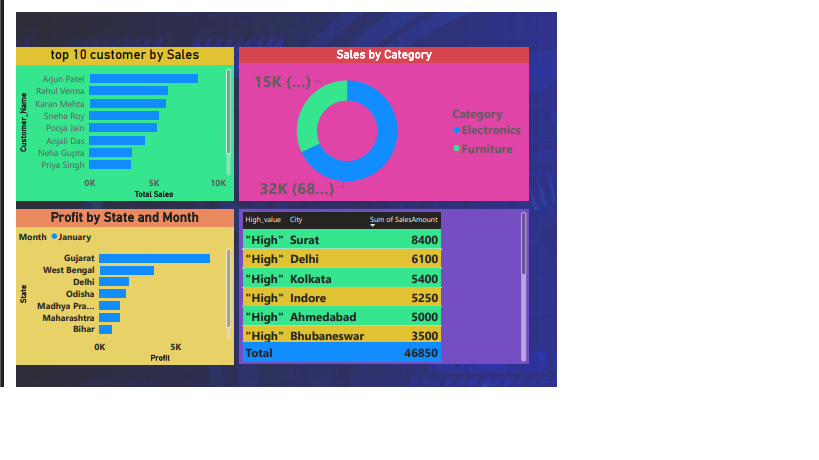

The page's visual inventory and layout, read from the dashboard file:
{"tool":"powerbi","page":{"name":"Page 1","canvas":[1280,720],"ordinal":0},"visuals":[{"type":"clusteredBarChart","title":"top 10 customer by Sales ","fields":{"Category":["Customer_Table.Customer_Name"],"Y":["Order_table.Total Sales"]},"box":[0,63.8,396.4,280.5],"z":0},{"type":"barChart","fields":{"Y":["Order_table.Profit"],"Category":["Customer_Table.State"],"Series":["DateTable_Table.Month"]},"box":[0,359.5,396.4,282.2],"z":1},{"type":"donutChart","title":"Sales by Category","fields":{"Y":["Order_table.Sales by Category"],"Category":["Product_Table.Category"]},"box":[406.5,63.8,527.5,280.5],"z":2},{"type":"tableEx","fields":{"Values":["Order_table.High_value","Customer_Table.City","Sum(Order_table.SalesAmount)"]},"box":[407,359,527,282],"z":3}]}

Visuals, with their boxes in screenshot pixels (x1, y1, x2, y2), scaled from the page's 1280x720 canvas onto the 819x460 screenshot:
"top 10 customer by Sales " clusteredBarChart: crop(0, 41, 254, 220)
barChart - Order_table.Profit x Customer_Table.State: crop(0, 230, 254, 410)
"Sales by Category" donutChart: crop(260, 41, 598, 220)
tableEx - Order_table.High_value x Customer_Table.City: crop(260, 229, 598, 410)
